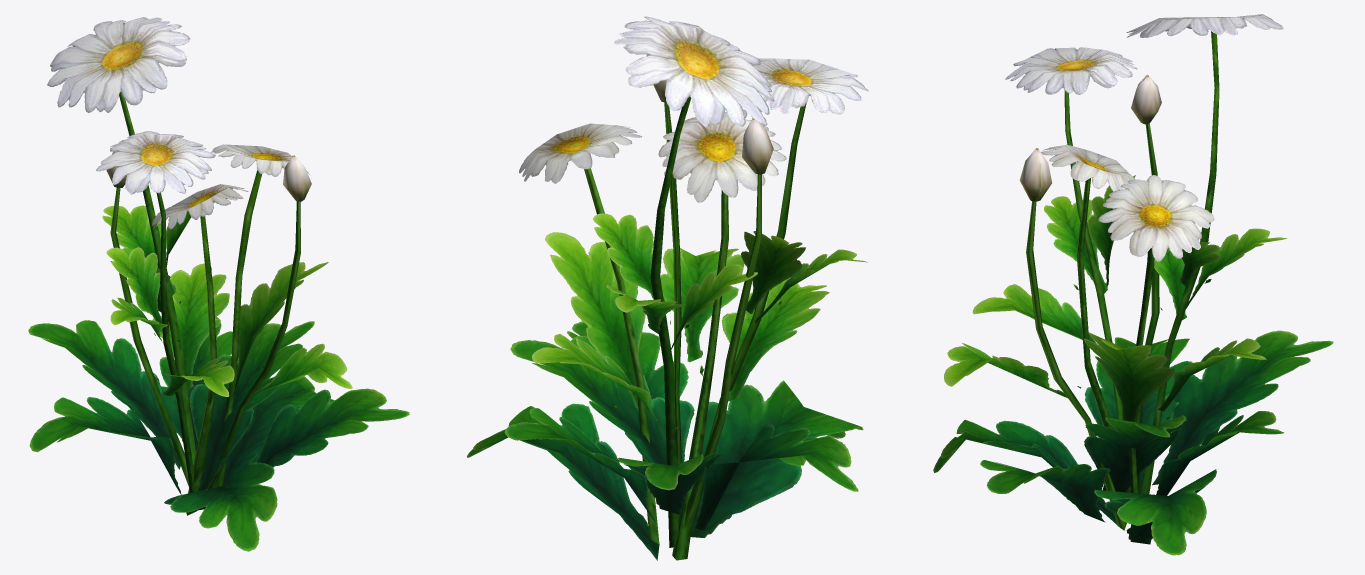
The model's file is TKZC_Cao_01.fbx.
The picture shows the model from 3 angles, left to right: view 1: azimuth 30°, elevation 25°; view 2: azimuth 150°, elevation 25°; view 3: azimuth 270°, elevation 25°; orthographic projection. The views are drawn at different scales.
Visible parts, largest first — view 1: TKZC_Cao_01; view 2: TKZC_Cao_01; view 3: TKZC_Cao_01.
Boxes of the visible parts, bbox=[...] form: TKZC_Cao_01: bbox=[28, 17, 409, 551]; TKZC_Cao_01: bbox=[467, 16, 868, 560]; TKZC_Cao_01: bbox=[933, 14, 1333, 555].
Size of the model in its own units: 1.14 by 1.54 by 1.19.
